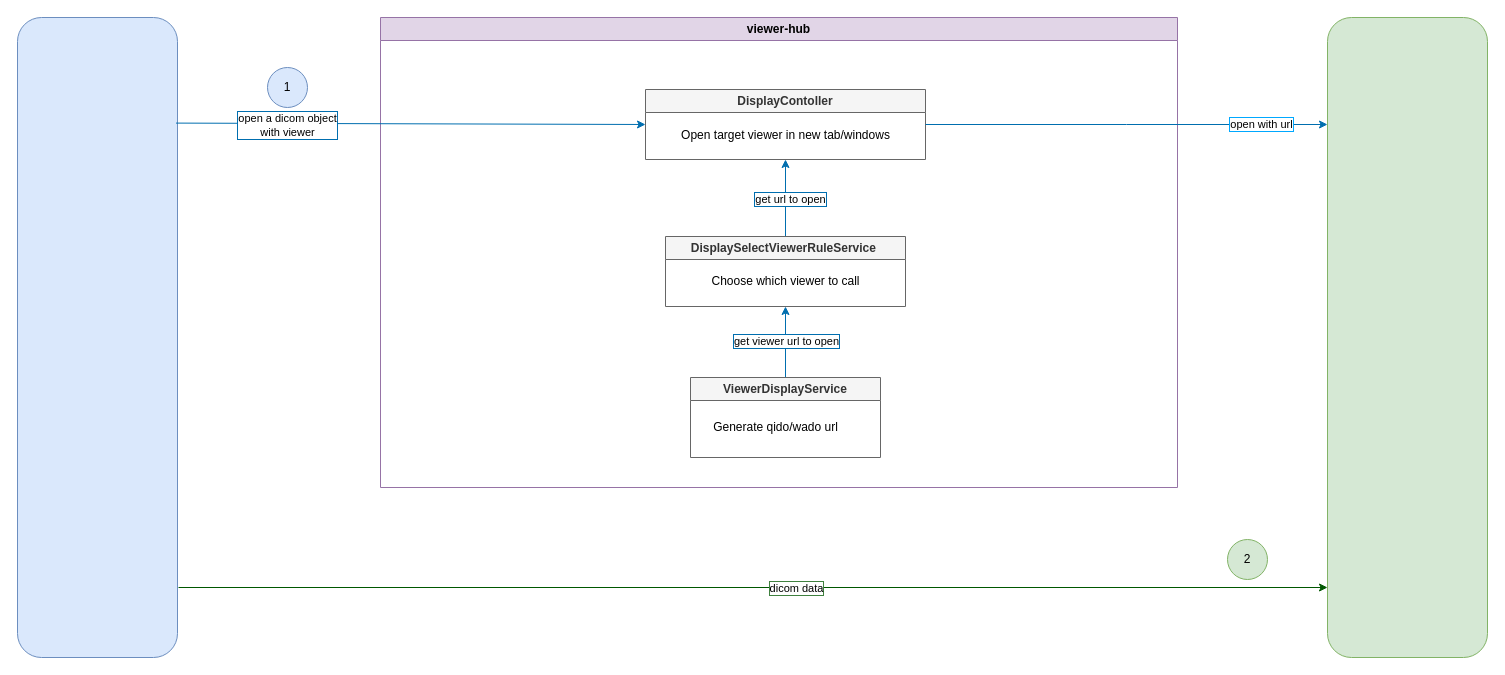
The diagram is 1505 pixels wide and 675 high, and some of its shapes have lost their labels. Here are the shapes that lost their labels. From the top down, the centre of each, then its label:
At point 97,337: "Archive".
At point 1407,337: "Viewer".
